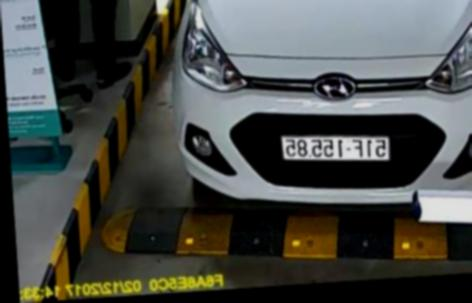License_Plate: (279, 130, 390, 167)
